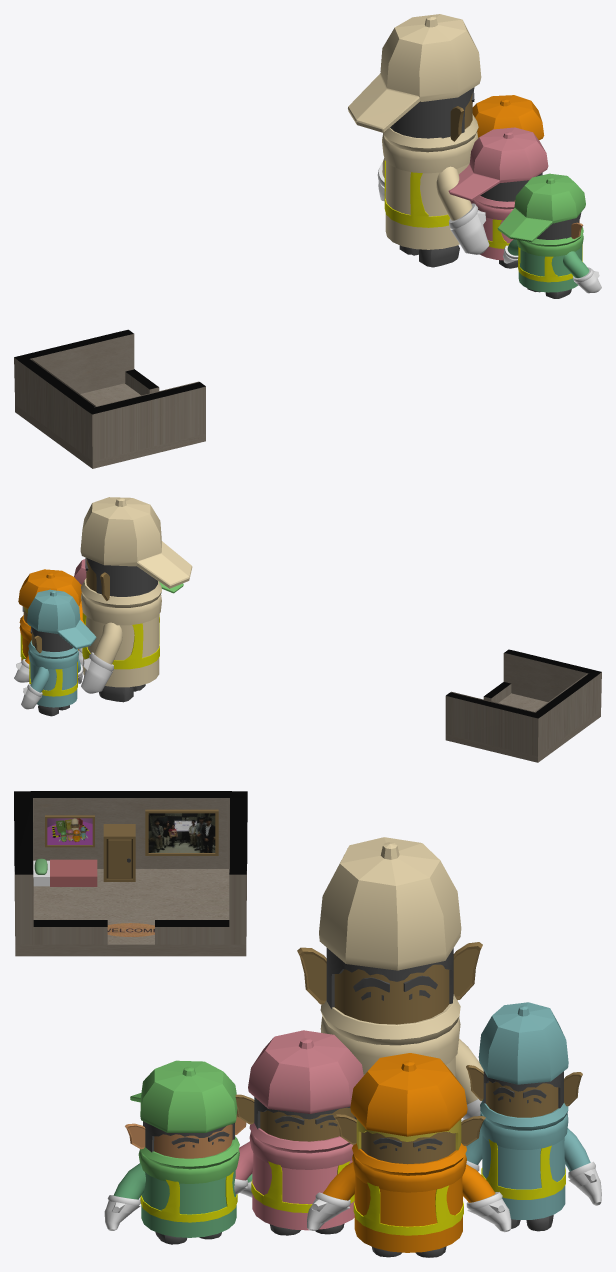
File: NYLOSHOUSE.fbx
3 renders of one model, top to bottom at view 1: azimuth 30°, elevation 25°; view 2: azimuth 150°, elevation 25°; view 3: azimuth 270°, elevation 25°, orthographic. The views are drawn at different scales.
Parts seen in each view (by area): view 1: pasted__pasted__pasted__Cp (×4), pCube1, pasted__pasted__pasted__pCylinder1 (×2), pasted__pasted__pasted__pCylinder3 (×3), pPlane2, pasted__pasted__pasted__pCylinder5 (×2), pasted__pasted__pasted__pCylinder12, pasted__pasted__pasted__pCylinder9, pasted__pasted__pasted__pCylinder8, pasted__pasted__pasted__Feet1; view 2: pasted__pasted__pasted__Cp (×3), pCube1, pasted__pasted__pasted__pCylinder1 (×2), pasted__pasted__pasted__pCylinder3 (×2), pPlane3, pasted__pasted__pasted__pCylinder5 (×2), pasted__pasted__pasted__pCylinder12 (×2), pasted__pasted__pasted__pCylinder7, pasted__pasted__pasted__pCylinder6, pasted__pasted__pasted__Feet; view 3: pasted__pasted__pasted__Cp (×5), pCube1, pasted__pasted__pasted__pCylinder3 (×5), pasted__pasted__pasted__pCylinder1 (×4), pasted__pasted__pasted__pCylinder2 (×5), pPlane1, pasted__pasted__pasted__pCylinder12 (×4), pasted__pasted__pasted__pCylinder5 (×3), pPlane4, pasted__pasted__pasted__pCylinder6 (×3), pasted__pasted__pasted__pCylinder7 (×2), pCube4 (+8 smaller).
Boxes of the visible parts, x1,y1,x2,y2 form: pasted__pasted__pasted__Cp (×4): [348, 14, 585, 242]; pCube1: [14, 329, 205, 468]; pasted__pasted__pasted__pCylinder1 (×2): [385, 161, 582, 292]; pasted__pasted__pasted__pCylinder3 (×3): [382, 114, 583, 256]; pPlane2: [30, 334, 133, 393]; pasted__pasted__pasted__pCylinder5 (×2): [390, 87, 542, 201]; pasted__pasted__pasted__pCylinder12: [384, 160, 449, 227]; pasted__pasted__pasted__pCylinder9: [449, 203, 489, 254]; pasted__pasted__pasted__pCylinder8: [436, 166, 472, 220]; pasted__pasted__pasted__Feet1: [419, 245, 459, 267]; pasted__pasted__pasted__Cp (×3): [18, 497, 192, 649]; pCube1: [445, 649, 601, 762]; pasted__pasted__pasted__pCylinder1 (×2): [30, 614, 159, 707]; pasted__pasted__pasted__pCylinder3 (×2): [28, 578, 161, 669]; pPlane3: [504, 653, 588, 701]; pasted__pasted__pasted__pCylinder5 (×2): [31, 558, 157, 651]; pasted__pasted__pasted__pCylinder12 (×2): [29, 613, 159, 696]; pasted__pasted__pasted__pCylinder7: [81, 652, 113, 693]; pasted__pasted__pasted__pCylinder6: [94, 622, 122, 664]; pasted__pasted__pasted__Feet: [99, 686, 133, 702]; pasted__pasted__pasted__Cp (×5): [130, 837, 568, 1136]; pCube1: [14, 791, 247, 956]; pasted__pasted__pasted__pCylinder3 (×5): [138, 994, 568, 1192]; pasted__pasted__pasted__pCylinder1 (×4): [141, 1135, 565, 1252]; pasted__pasted__pasted__pCylinder2 (×5): [154, 964, 558, 1164]; pPlane1: [34, 798, 227, 868]; pasted__pasted__pasted__pCylinder12 (×4): [140, 1139, 565, 1235]; pasted__pasted__pasted__pCylinder5 (×3): [326, 948, 563, 1150]; pPlane4: [148, 813, 215, 852]; pasted__pasted__pasted__pCylinder6 (×3): [455, 1038, 590, 1202]; pasted__pasted__pasted__pCylinder7 (×2): [466, 1161, 601, 1232]; pCube4: [103, 824, 135, 881].
Bounding box in the file's own units: 61.61 × 25.09 × 36.27.
32 materials, 5 textured.
